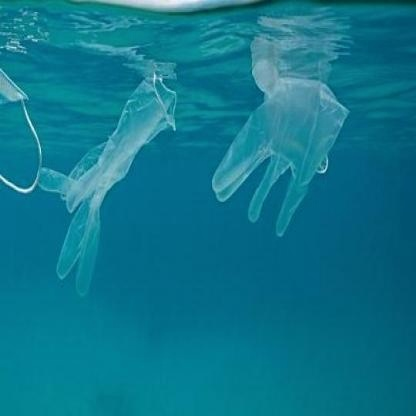glove: (32, 74, 176, 296), (218, 59, 352, 238)
